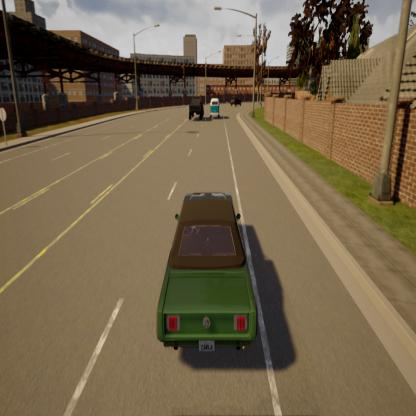Cars: (156, 151, 258, 394), (186, 93, 205, 120), (210, 92, 221, 124), (228, 92, 245, 108)
